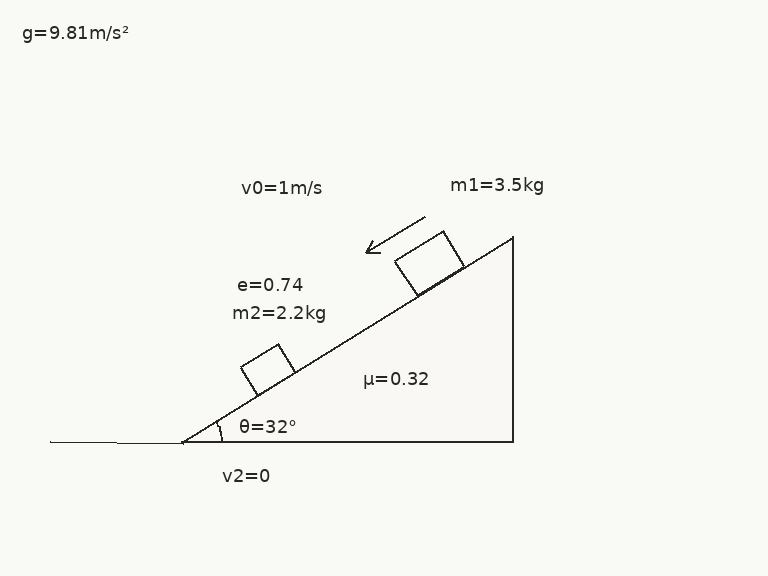block: (393, 229, 466, 297), (238, 342, 297, 397)
ramp: (180, 234, 514, 444)
